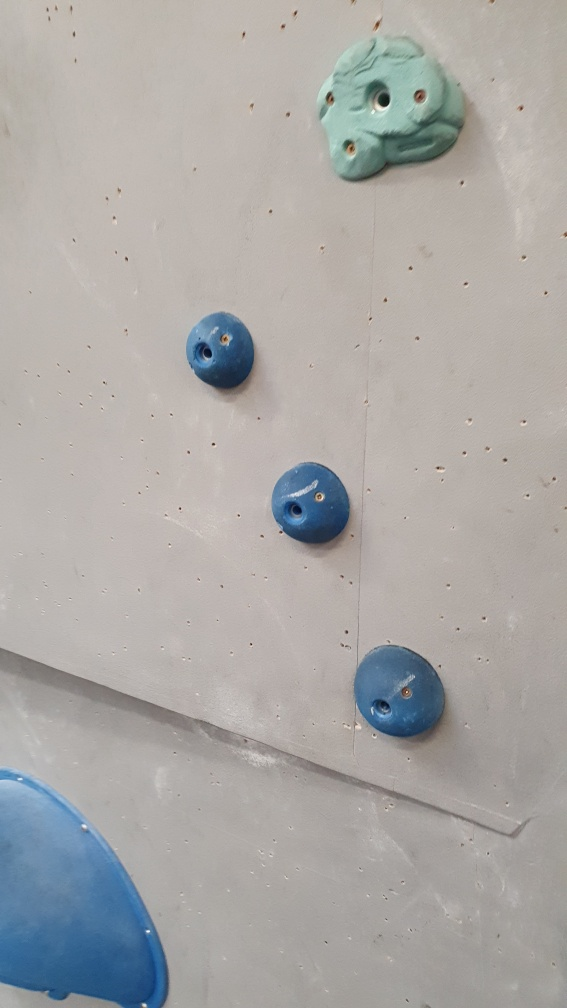Sloper: (350, 638, 451, 745), (263, 459, 361, 554), (185, 305, 262, 393)
